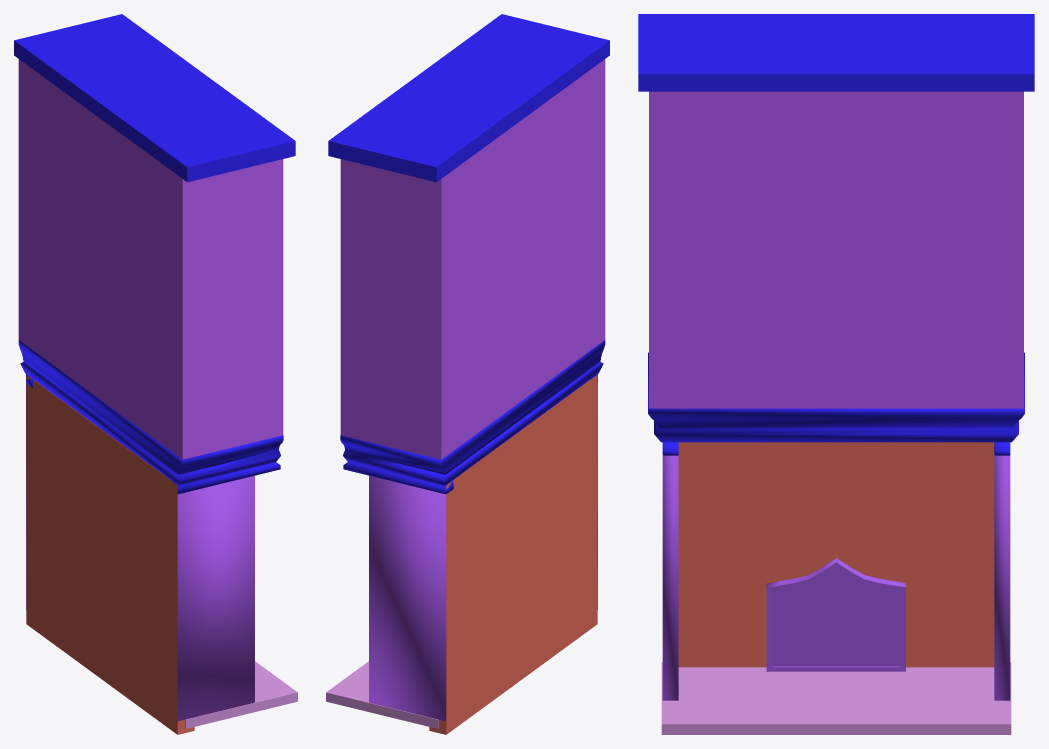
File: Fire Place.fbx
3 renders of one model, left to right at view 1: azimuth 30°, elevation 25°; view 2: azimuth 150°, elevation 25°; view 3: azimuth 270°, elevation 25°, orthographic. The views are drawn at different scales.
Parts seen in each view (by area): view 1: Top Brick, Back Brick, Top Wood, Left Brick Edge, Top Wood Buffer, Floor Brick, Left Wood Buffer; view 2: Top Brick, Back Brick, Top Wood, Right Brick Edge, Top Wood Buffer, Floor Brick, Right Wood Buffer; view 3: Top Brick, Back Brick, Top Wood, Floor Brick, Metal Fire Place, Top Wood Buffer, Right Brick Edge, Left Brick Edge.
Part boxes in pixels (box(x1,y1,x2,y2)): Top Brick: box(18, 59, 283, 459); Back Brick: box(26, 375, 194, 734); Top Wood: box(14, 14, 295, 182); Left Brick Edge: box(177, 475, 254, 721); Top Wood Buffer: box(18, 340, 283, 485); Floor Brick: box(185, 661, 297, 728); Left Wood Buffer: box(171, 462, 280, 494); Top Brick: box(340, 59, 605, 459); Back Brick: box(429, 375, 597, 734); Top Wood: box(328, 14, 609, 182); Right Brick Edge: box(369, 475, 446, 721); Top Wood Buffer: box(340, 340, 605, 485); Floor Brick: box(326, 661, 438, 728); Right Wood Buffer: box(343, 462, 453, 494); Top Brick: box(649, 91, 1023, 408); Back Brick: box(678, 442, 994, 667); Top Wood: box(638, 14, 1034, 91); Floor Brick: box(661, 662, 1011, 734); Metal Fire Place: box(766, 558, 905, 671); Top Wood Buffer: box(648, 352, 1024, 442); Right Brick Edge: box(994, 455, 1010, 700); Left Brick Edge: box(662, 455, 678, 700).
Size of the model in its own units: 229 by 1040 by 567.
